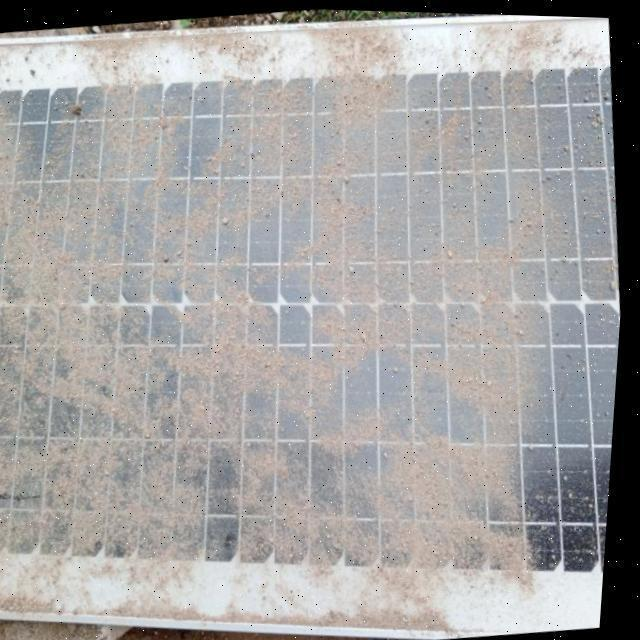Surface Contaminant: (0, 13, 607, 571)
